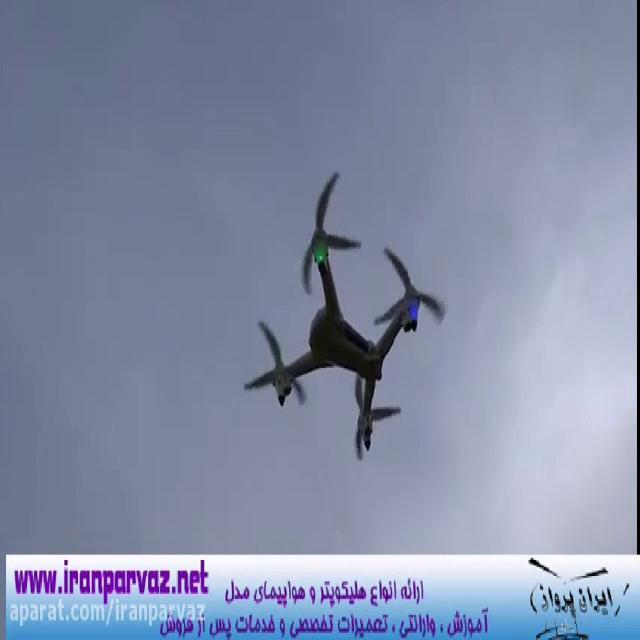drone: (242, 165, 447, 462)
